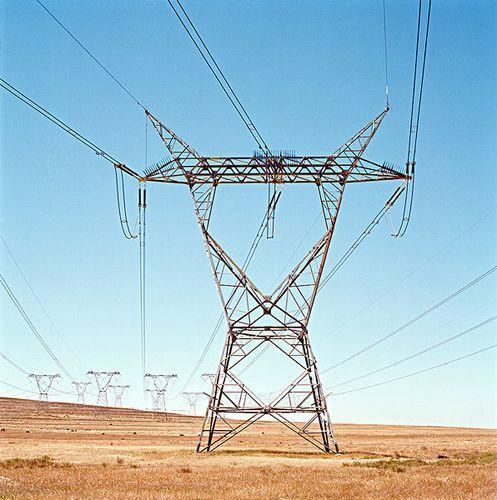power_tower: (117, 96, 412, 466), (138, 371, 185, 427), (23, 369, 61, 418), (86, 367, 126, 411), (70, 379, 93, 406)
